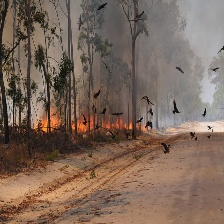fire: (32, 108, 157, 136)
smoke: (16, 1, 224, 111)
